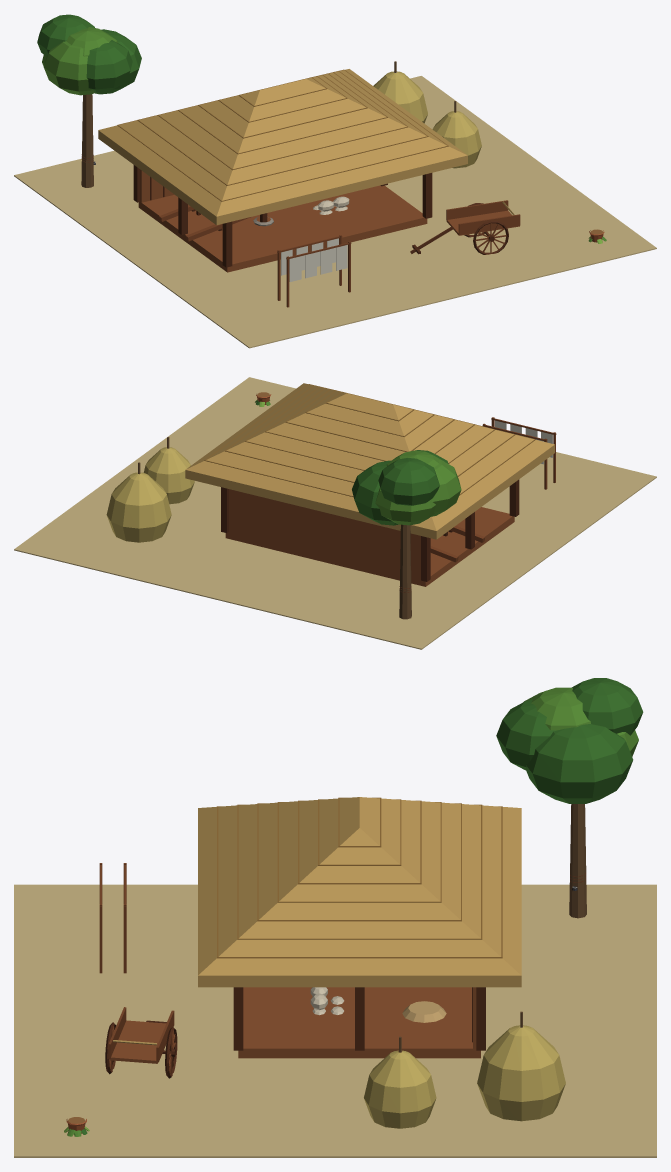
File: factory_3.glb
3 views of the same model, one above another, from view 1: azimuth 30°, elevation 25°; view 2: azimuth 150°, elevation 25°; view 3: azimuth 270°, elevation 25° (orthographic). The views are drawn at different scales.
Parts seen in each view (by area): view 1: body; view 2: body; view 3: body.
Boxes of the visible parts, box(x1,y1,x2,y2) form: body: box(14, 14, 656, 348); body: box(14, 377, 656, 649); body: box(14, 678, 656, 1157).
Bounding box in the file's own units: 15.9 × 6.47 × 15.9.
